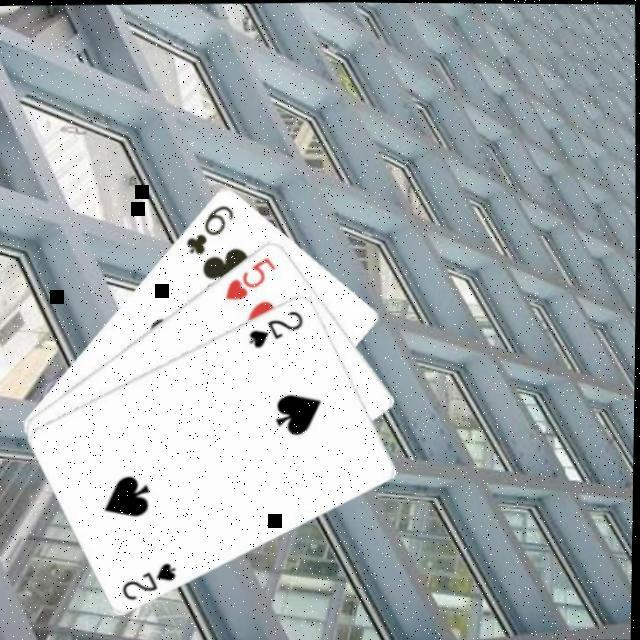2S: (246, 304, 309, 349), (120, 557, 182, 602)
5H: (222, 251, 282, 301)
6C: (183, 199, 239, 256)
